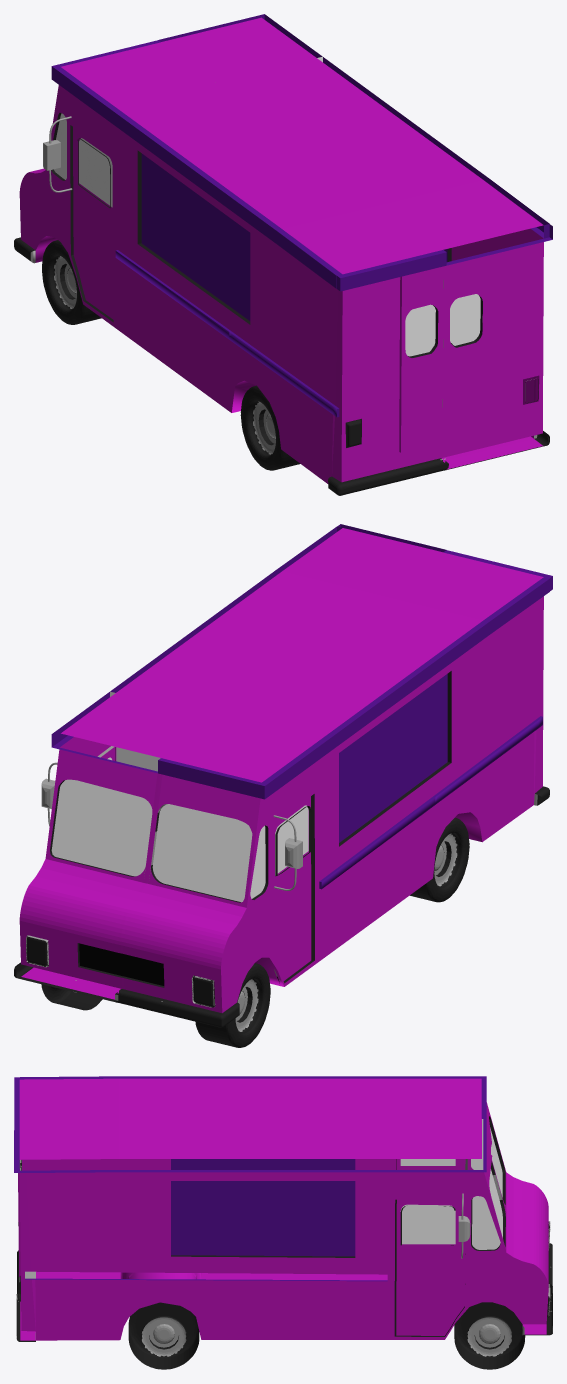
File: foodtruck.glb
3 renders of one model, top to bottom at view 1: azimuth 30°, elevation 25°; view 2: azimuth 150°, elevation 25°; view 3: azimuth 270°, elevation 25°, orthographic. The views are drawn at different scales.
Visible parts, largest first — view 1: van, van.001, tire2.001, tire2.002; view 2: van, van.001, tire2.002, tire2.001, tire2.004; view 3: van.001, van, tire2.003, tire2.004.
Part boxes in pixels (x1,y1,x2,y2): van: (14, 40, 446, 495); van.001: (158, 14, 552, 470); tire2.001: (240, 385, 300, 470); tire2.002: (42, 240, 101, 324); van: (118, 550, 552, 1027); van.001: (14, 524, 445, 1002); tire2.002: (195, 963, 270, 1047); tire2.001: (410, 817, 469, 902); tire2.004: (41, 984, 102, 1010); van.001: (14, 1118, 552, 1341); van: (14, 1076, 552, 1300); tire2.003: (128, 1302, 199, 1369); tire2.004: (454, 1302, 525, 1369).
Bounding box in the file's own units: 2.33 × 2.26 × 5.17.
